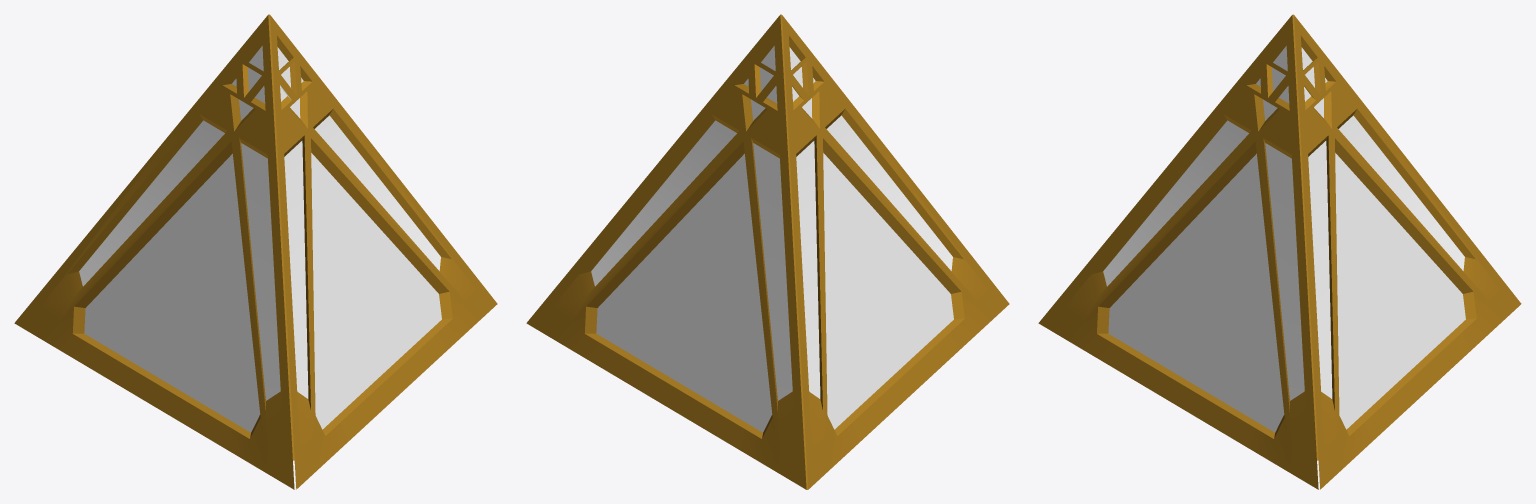
File: SithHolo.glb
3 views of the same model, side by side, from view 1: azimuth 30°, elevation 25°; view 2: azimuth 150°, elevation 25°; view 3: azimuth 270°, elevation 25° (orthographic).
Visible parts, largest first — view 1: Cone; view 2: Cone; view 3: Cone.
Boxes of the visible parts, box(x1,y1,x2,y2) form: Cone: box(14, 14, 497, 489); Cone: box(526, 14, 1009, 489); Cone: box(1038, 14, 1521, 489).
Size of the model in its own units: 2.02 by 1.82 by 2.21.
